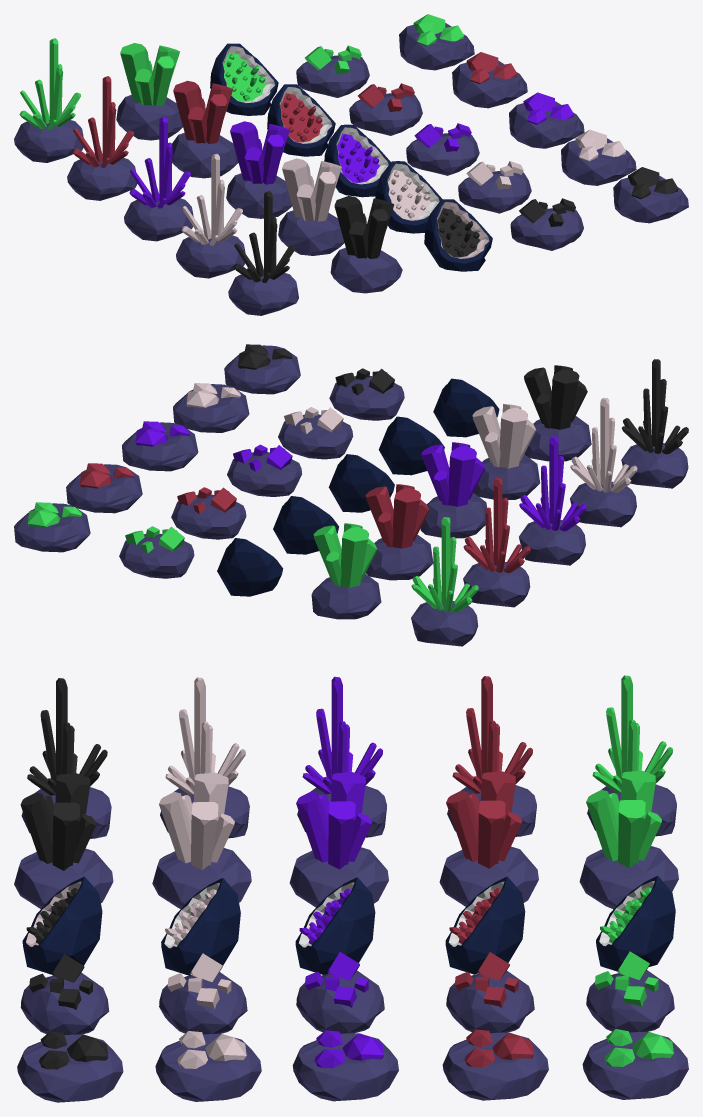
Rendered from minerios 1.0.fbx.
3 views of the same model, one above another, from view 1: azimuth 30°, elevation 25°; view 2: azimuth 150°, elevation 25°; view 3: azimuth 270°, elevation 25° (orthographic). The views are drawn at different scales.
Parts seen in each view (by area): view 1: crystal_basalt_black, crystal_basalt_white, crystal_basalt_red, crystal_basalt_green, crystal_basalt_purple, Crystal_selenite_red, Crystal_selenite_black, Crystal_selenite_green, Crystal_selenite_white, Crystal_selenite_purple, crystal_geode_black, crystal_geode_red (+13 smaller); view 2: crystal_basalt_green, crystal_basalt_red, crystal_basalt_purple, Crystal_selenite_green, Crystal_selenite_purple, crystal_basalt_white, crystal_basalt_black, Crystal_selenite_red, Crystal_selenite_white, Crystal_selenite_black, crystal_amethyst_green, crystal_amethyst_black (+13 smaller); view 3: crystal_basalt_green, crystal_basalt_white, crystal_basalt_red, crystal_basalt_purple, crystal_basalt_black, crystal_amethyst_black, crystal_amethyst_purple, crystal_amethyst_red, crystal_amethyst_white, crystal_amethyst_green, crystal_geode_black, crystal_geode_red (+13 smaller).
Boxes of the visible parts, x1=… form: crystal_basalt_black: x1=330, y1=196, x2=402, y2=293; crystal_basalt_white: x1=278, y1=158, x2=344, y2=255; crystal_basalt_red: x1=172, y1=80, x2=238, y2=178; crystal_basalt_green: x1=116, y1=43, x2=182, y2=140; crystal_basalt_purple: x1=226, y1=121, x2=291, y2=218; Crystal_selenite_red: x1=67, y1=76, x2=137, y2=200; Crystal_selenite_black: x1=228, y1=191, x2=298, y2=315; Crystal_selenite_green: x1=14, y1=38, x2=83, y2=162; Crystal_selenite_white: x1=176, y1=153, x2=245, y2=278; Crystal_selenite_purple: x1=124, y1=116, x2=193, y2=241; crystal_geode_black: x1=424, y1=199, x2=492, y2=271; crystal_geode_red: x1=267, y1=84, x2=335, y2=156; crystal_basalt_green: x1=311, y1=523, x2=381, y2=619; crystal_basalt_red: x1=365, y1=484, x2=433, y2=580; crystal_basalt_purple: x1=420, y1=442, x2=486, y2=538; Crystal_selenite_green: x1=411, y1=517, x2=478, y2=646; Crystal_selenite_purple: x1=519, y1=436, x2=586, y2=565; crystal_basalt_white: x1=472, y1=404, x2=540, y2=499; crystal_basalt_black: x1=524, y1=365, x2=591, y2=461; Crystal_selenite_red: x1=463, y1=478, x2=530, y2=607; Crystal_selenite_white: x1=570, y1=397, x2=637, y2=527; Crystal_selenite_black: x1=621, y1=359, x2=688, y2=488; crystal_amethyst_green: x1=14, y1=502, x2=90, y2=552; crystal_amethyst_black: x1=224, y1=344, x2=300, y2=394; crystal_basalt_green: x1=579, y1=770, x2=678, y2=909; crystal_basalt_white: x1=152, y1=772, x2=251, y2=908; crystal_basalt_red: x1=439, y1=771, x2=538, y2=906; crystal_basalt_purple: x1=289, y1=772, x2=388, y2=907; crystal_basalt_black: x1=14, y1=773, x2=113, y2=908; crystal_amethyst_black: x1=17, y1=1031, x2=123, y2=1102; crystal_amethyst_purple: x1=292, y1=1030, x2=398, y2=1101; crystal_amethyst_red: x1=442, y1=1029, x2=548, y2=1100; crystal_amethyst_white: x1=155, y1=1031, x2=261, y2=1101; crystal_amethyst_green: x1=582, y1=1029, x2=688, y2=1099; crystal_geode_black: x1=22, y1=876, x2=102, y2=974; crystal_geode_red: x1=445, y1=876, x2=525, y2=974.
Size of the model in its own units: 6403 by 1634 by 6135.
